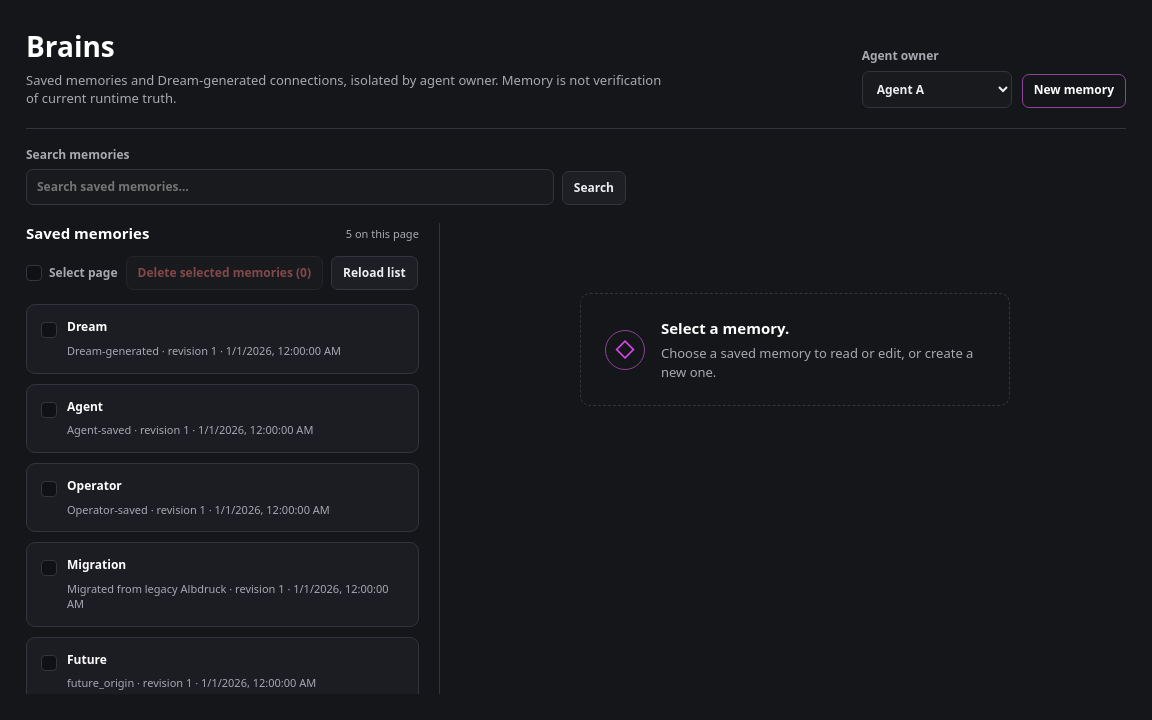
Brains workspace › labels Dream, agent, operator, migration, and unknown provenance truthfully
Expected: the button "Dream Dream-generated · revision 1 · 1/1/2026, 12:00:00 AM" is shown, [67,319,404,359]
Expected: the button "Agent Agent-saved · revision 1 · 1/1/2026, 12:00:00 AM" is shown, [67,398,404,438]
Click the button "Future future_origin · revision 1 · 1/1/2026, 12:00:00 AM".
click(87, 659)  # box [67,652,404,691]
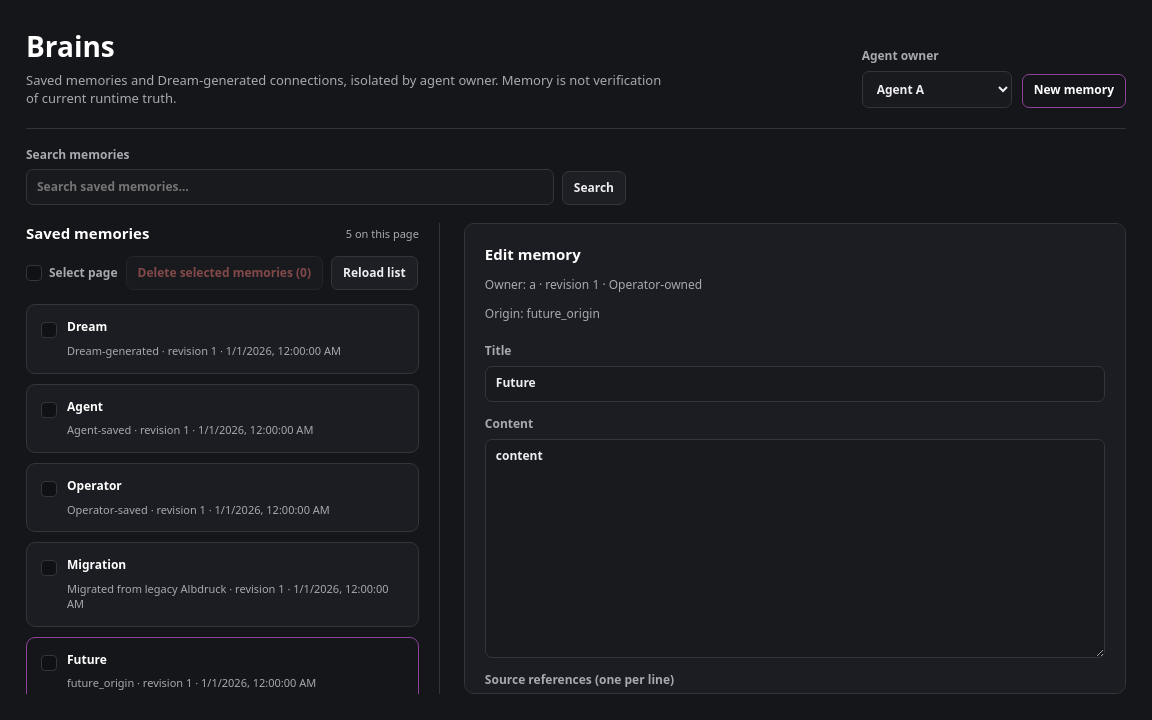
Result: the text "Origin: future_origin" is shown at [485,305,600,322]
